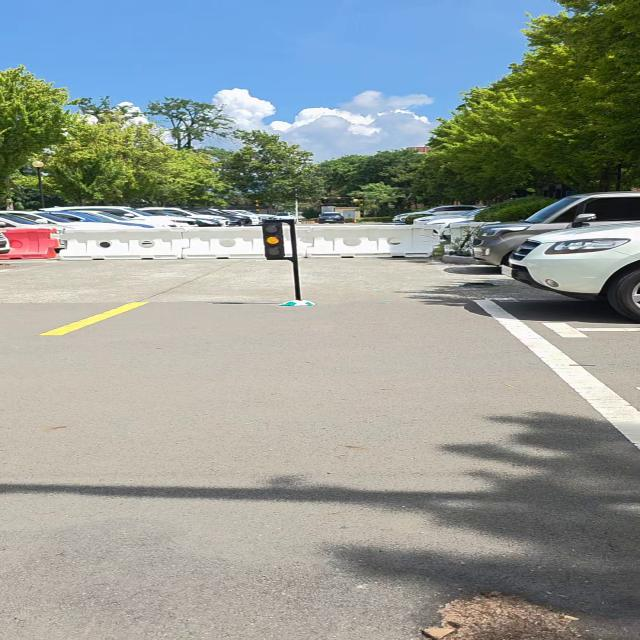yellow: (262, 222, 287, 258)
